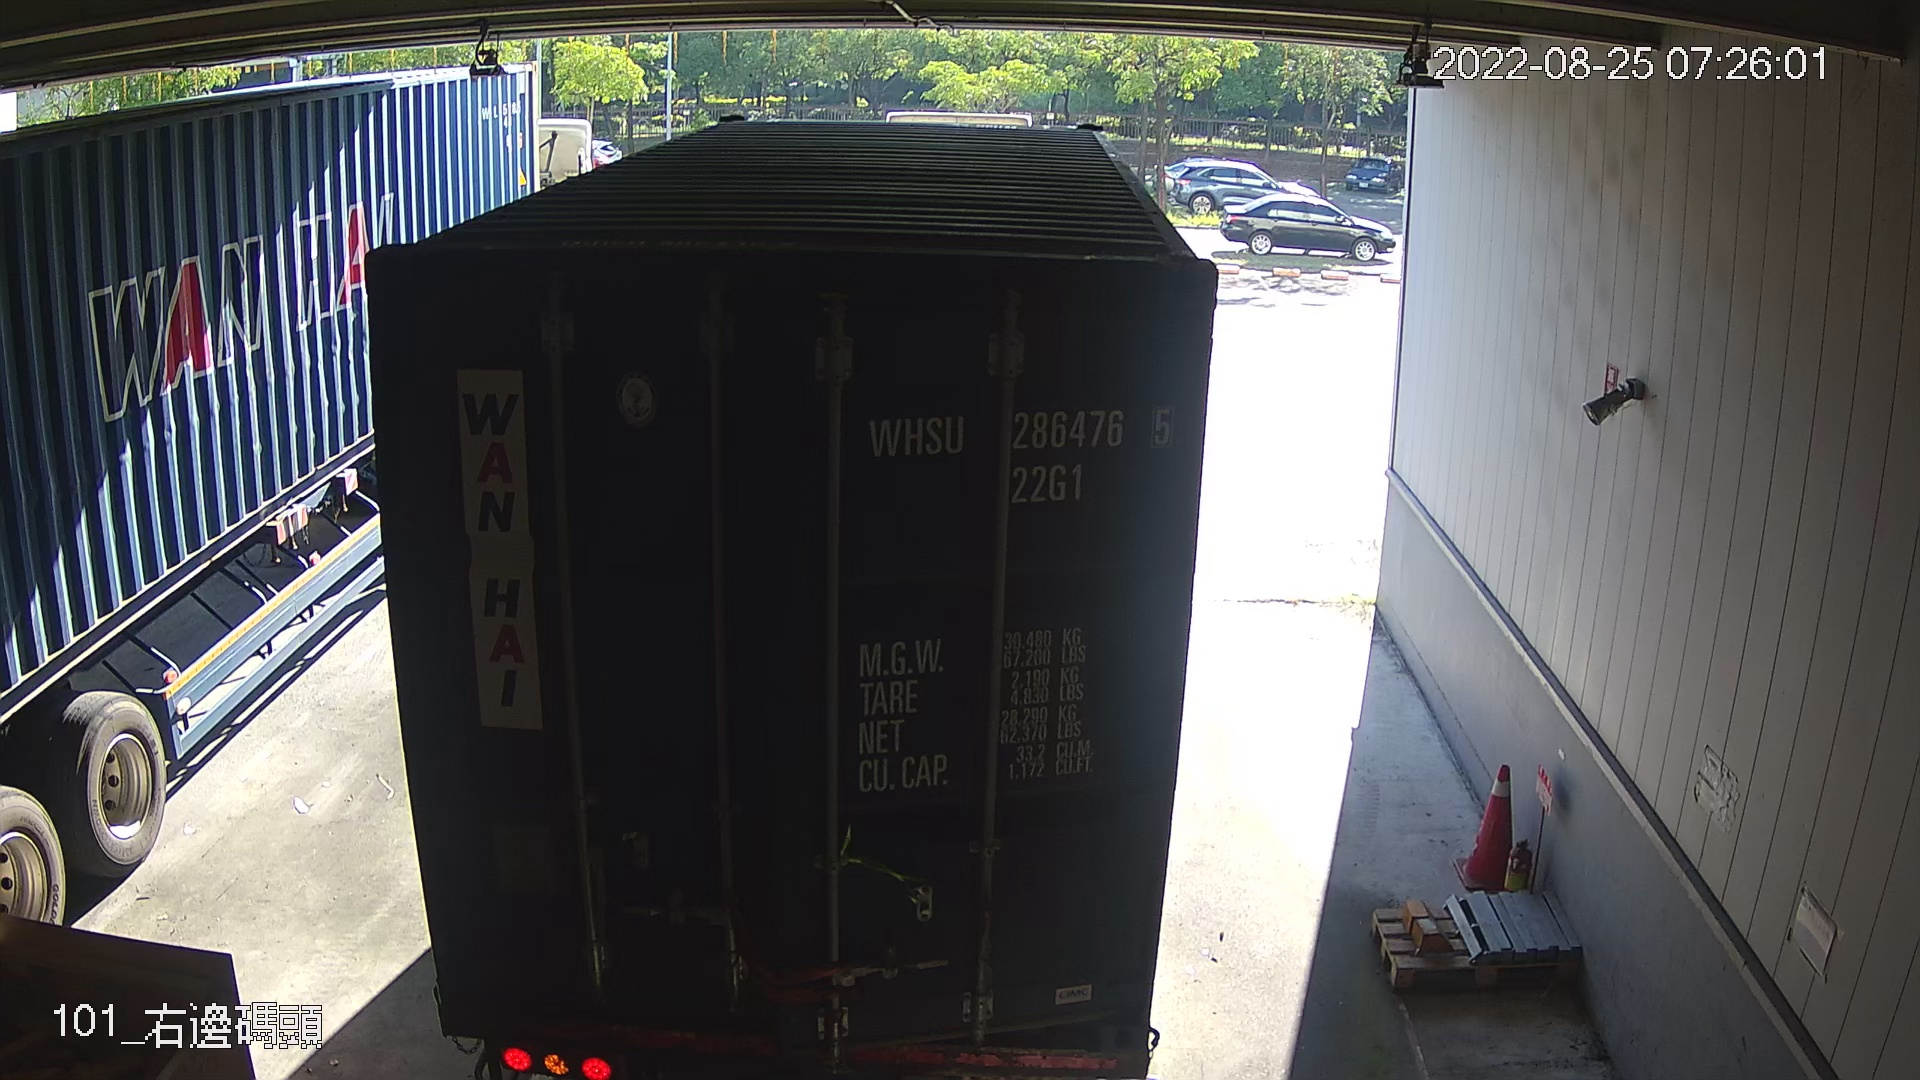container: (856, 392, 1187, 517)
